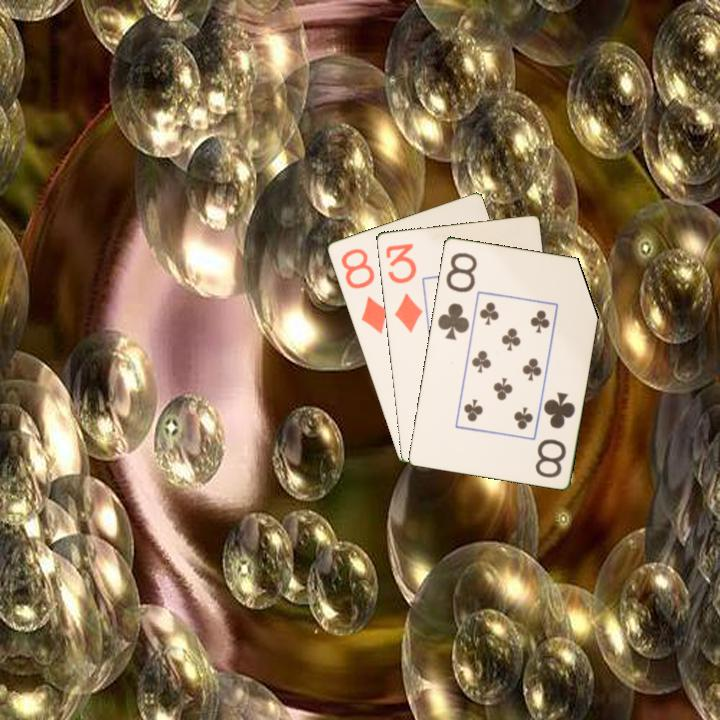3d: (382, 239, 425, 335)
8c: (531, 388, 578, 481), (434, 249, 480, 343)
8d: (337, 245, 391, 337)
